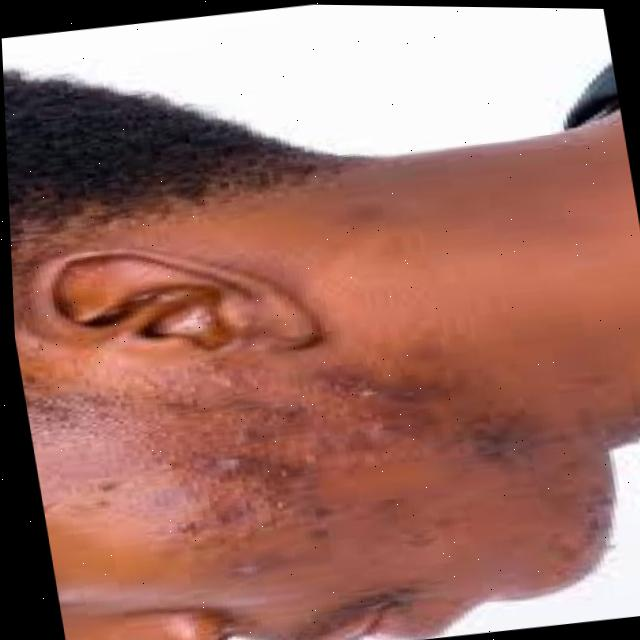Eczema: (47, 315, 596, 640)
